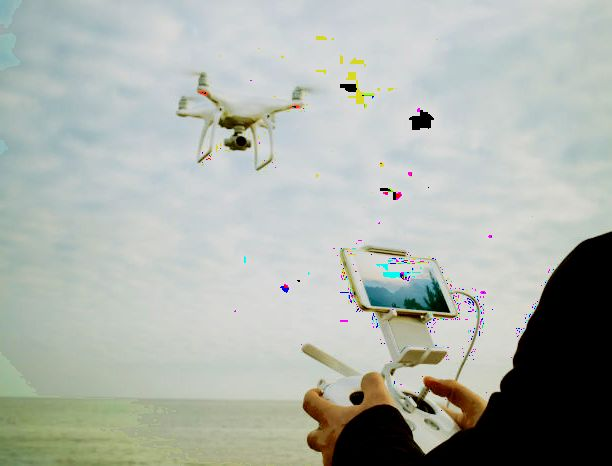Drone: (171, 62, 317, 169)
